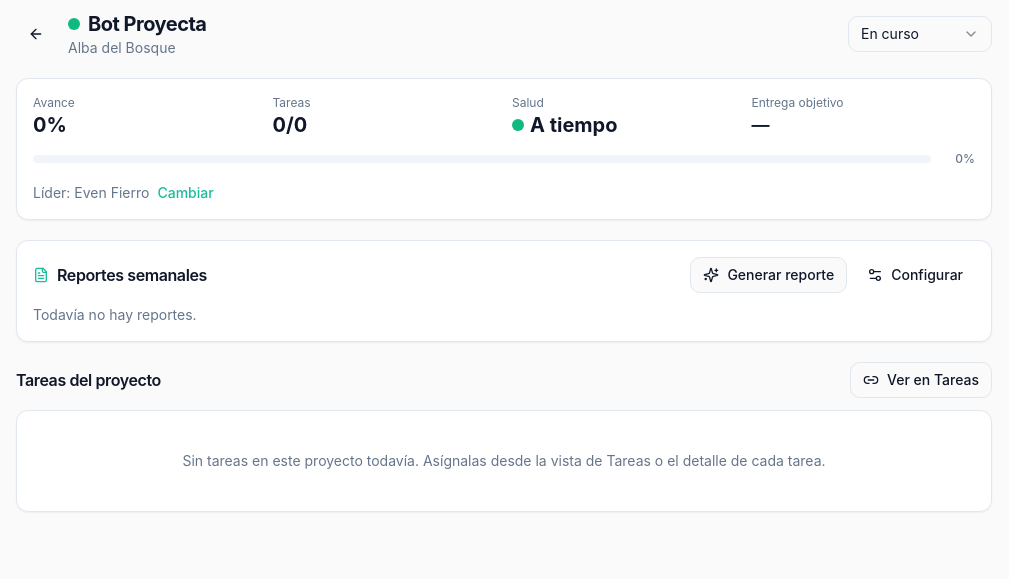
Test: DetalleProyecto › con líder muestra su nombre y el selector solo aparece al tocar "Cambiar"
This screenshot has width=1009, height=579.
Expected: the text "Líder: Even Fierro" is shown, [33,183,149,203]
Expected: the field labelled "Líder del proyecto" is not shown
Step 1. Click the button with aria-label "Cambiar líder" → (186, 193), box [157,183,214,203]
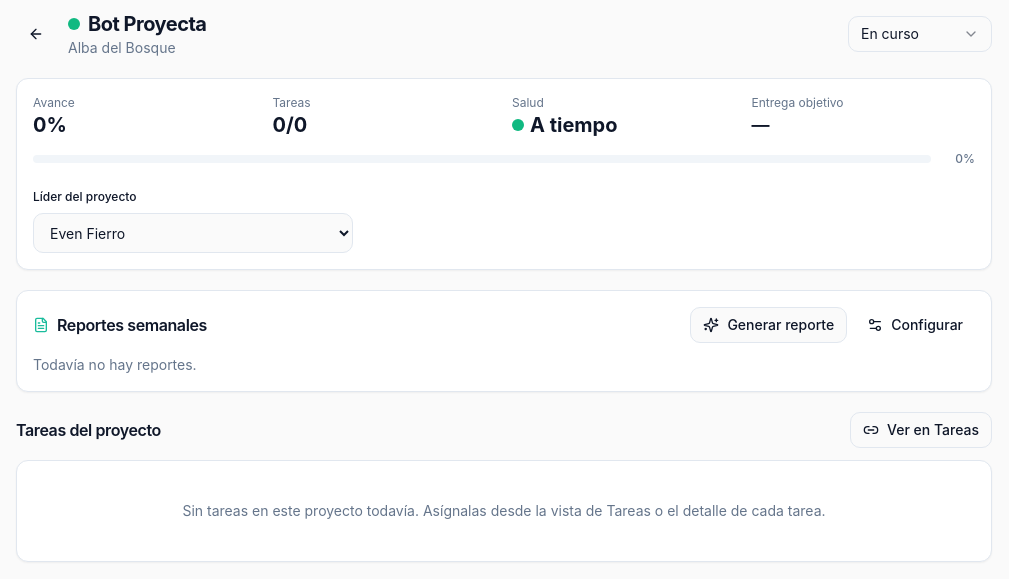
Step 2. Select "Ana Mora" in the dropdown labelled "Líder del proyecto" → (193, 233), box [33,213,353,253]
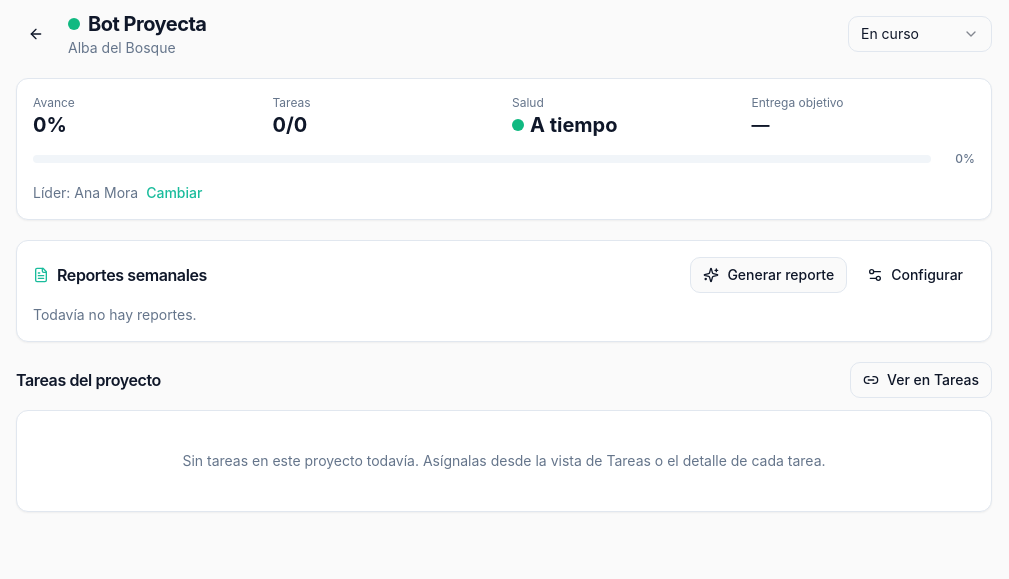
Expected: the text "Líder: Ana Mora" is shown, [33,183,138,203]
